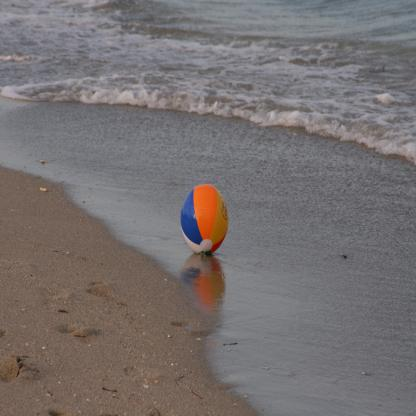Ball: (180, 184, 228, 252)
